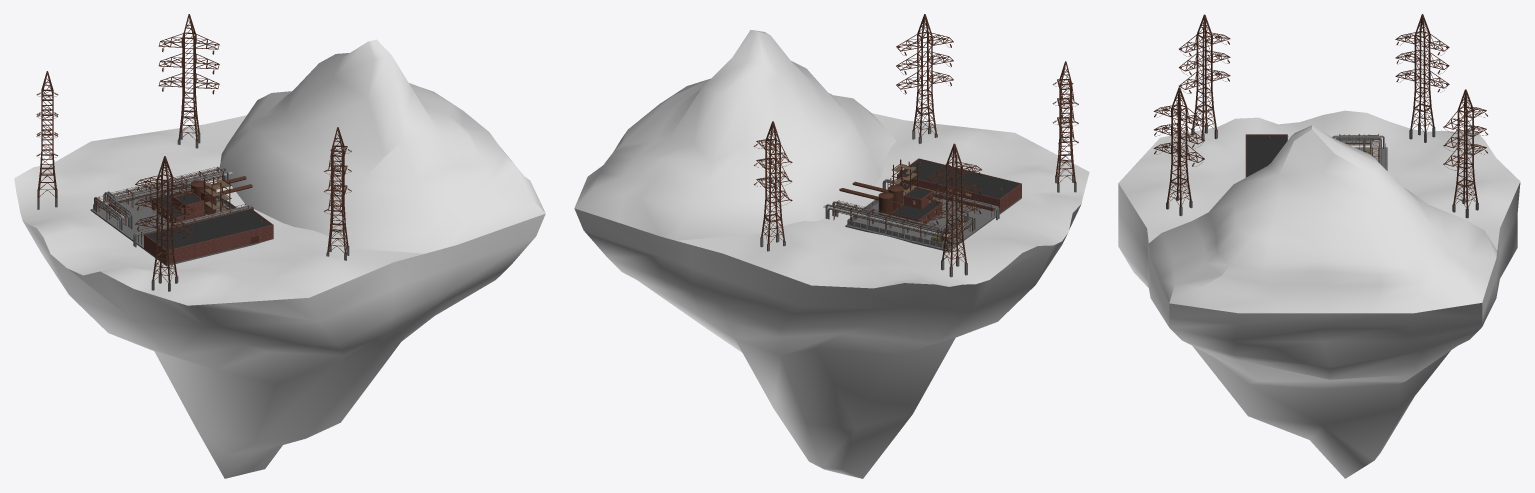
Rendered from location1FBX.fbx.
3 renders of one model, left to right at view 1: azimuth 30°, elevation 25°; view 2: azimuth 150°, elevation 25°; view 3: azimuth 270°, elevation 25°, orthographic. The views are drawn at different scales.
Parts seen in each view (by area): view 1: Plane, Cube.064, Cube.002, Cube.010, Cube.057, Cube.009, Cube.001, Cylinder.005, Cube.008, Cube.553, Cube.066; view 2: Plane, Cube.064, Cube.008, Cube.009, Cube.010, Cube.057, Cube.001, Cylinder.005, Cube.002, Cube.066, Cube.003; view 3: Plane, Cube.008, Cube.009, Cube.002, Cube.010, Cube.064, Cube.057.
Part boxes in pixels (x1,y1,x2,y2): Plane: (14,39,545,478); Cube.064: (144,208,273,265); Cube.002: (135,156,194,291); Cube.010: (158,14,219,148); Cube.057: (94,166,233,230); Cube.009: (324,127,351,260); Cube.001: (90,186,231,249); Cylinder.005: (151,180,216,225); Cube.008: (36,71,58,209); Cube.553: (203,175,231,217); Cube.066: (133,204,253,247); Plane: (574,30,1089,478); Cube.064: (897,158,1021,214); Cube.008: (926,143,981,277); Cube.009: (896,14,953,143); Cube.010: (753,121,792,251); Cube.057: (823,200,975,248); Cube.001: (845,192,999,251); Cylinder.005: (878,185,942,225); Cube.002: (1052,61,1078,192); Cube.066: (882,178,999,220); Cube.003: (848,220,948,249); Plane: (1118,110,1520,478); Cube.008: (1395,14,1449,142); Cube.009: (1153,87,1204,216); Cube.002: (1179,14,1230,139); Cube.010: (1443,89,1488,218); Cube.064: (1245,134,1288,177); Cube.057: (1332,134,1384,164).
Bounding box in the file's own units: 25338 × 23358 × 21671.
